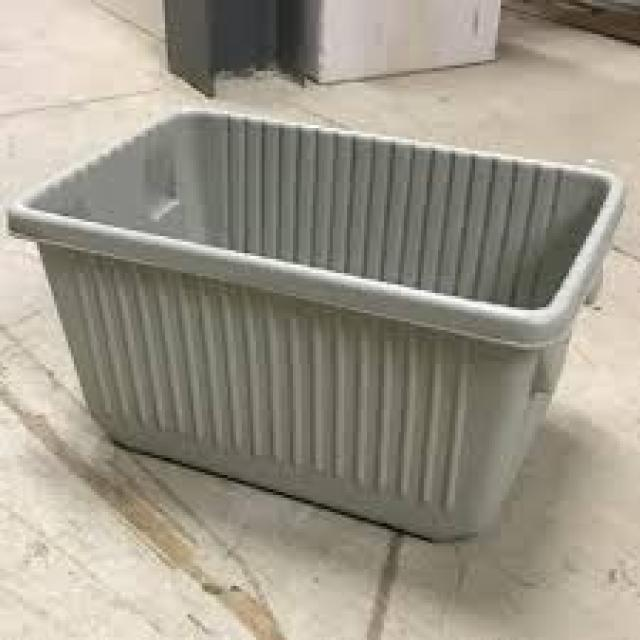basket: (0, 85, 631, 560)
